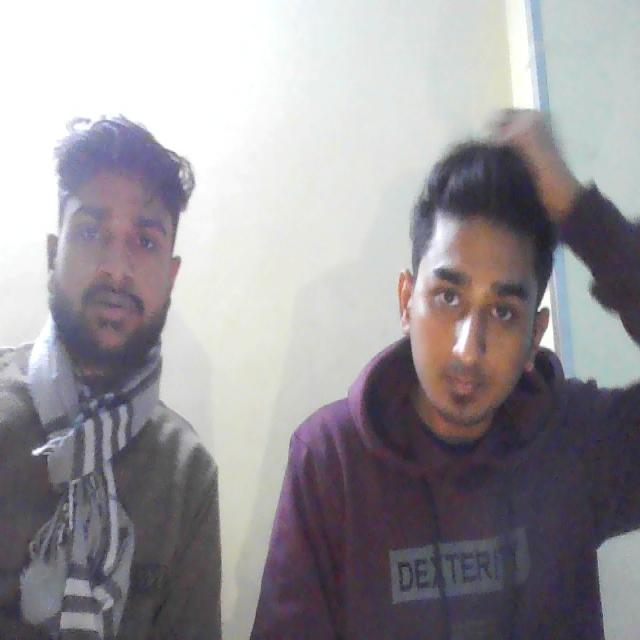real: (397, 153, 550, 443), (46, 104, 185, 367)
